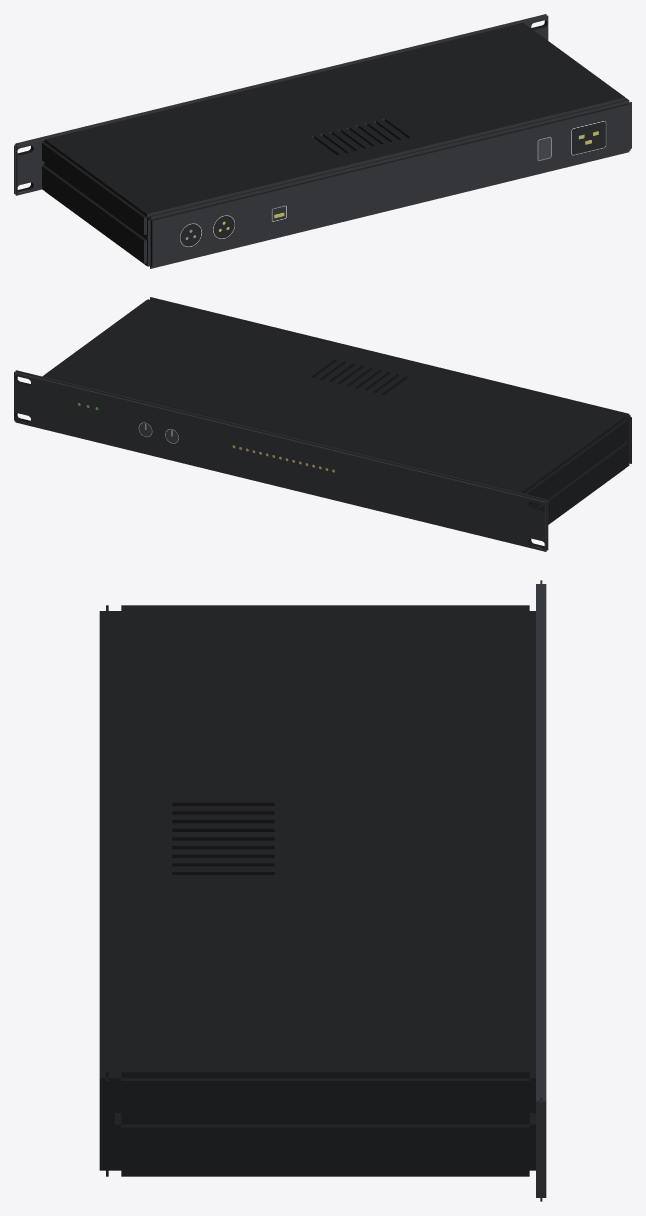
Rendered from sonifex-dhy-04s.glb.
3 views of the same model, one above another, from view 1: azimuth 30°, elevation 25°; view 2: azimuth 150°, elevation 25°; view 3: azimuth 270°, elevation 25° (orthographic). The views are drawn at different scales.
Parts seen in each view (by area): view 1: sonifex-dhy-04s-body; view 2: sonifex-dhy-04s-body; view 3: sonifex-dhy-04s-body.
Part boxes in pixels (x1,y1,x2,y2): sonifex-dhy-04s-body: (14, 14, 631, 268); sonifex-dhy-04s-body: (14, 297, 631, 551); sonifex-dhy-04s-body: (99, 580, 546, 1201).
Size of the model in its own units: 0.483 by 0.045 by 0.175.
1 material, 1 textured.
